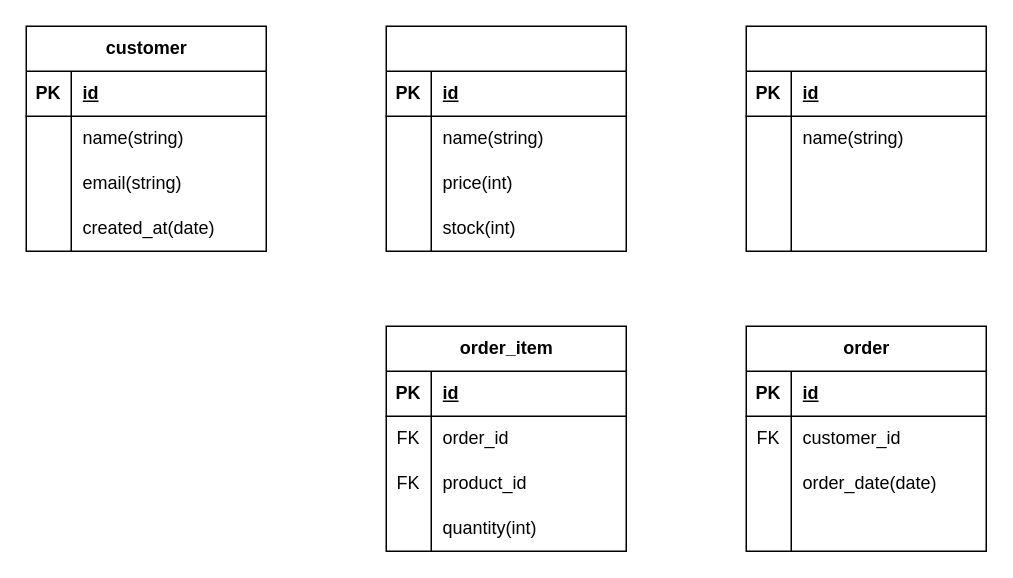
The diagram is 1013 pixels wide and 578 high, and some of its shapes have lost their labels. The box of each missing label's shape, as (x1, y1, x2, y2) in pixels:
category: (745, 25, 986, 251)
Product: (385, 25, 626, 251)
